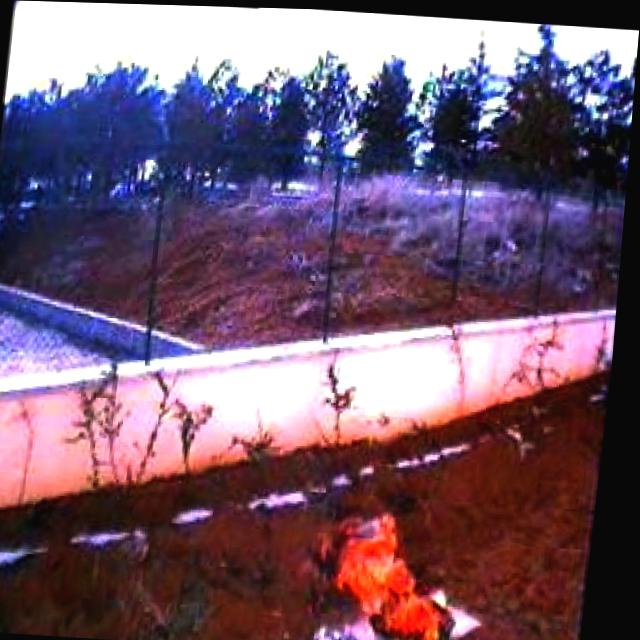helmet: (322, 507, 480, 640)
